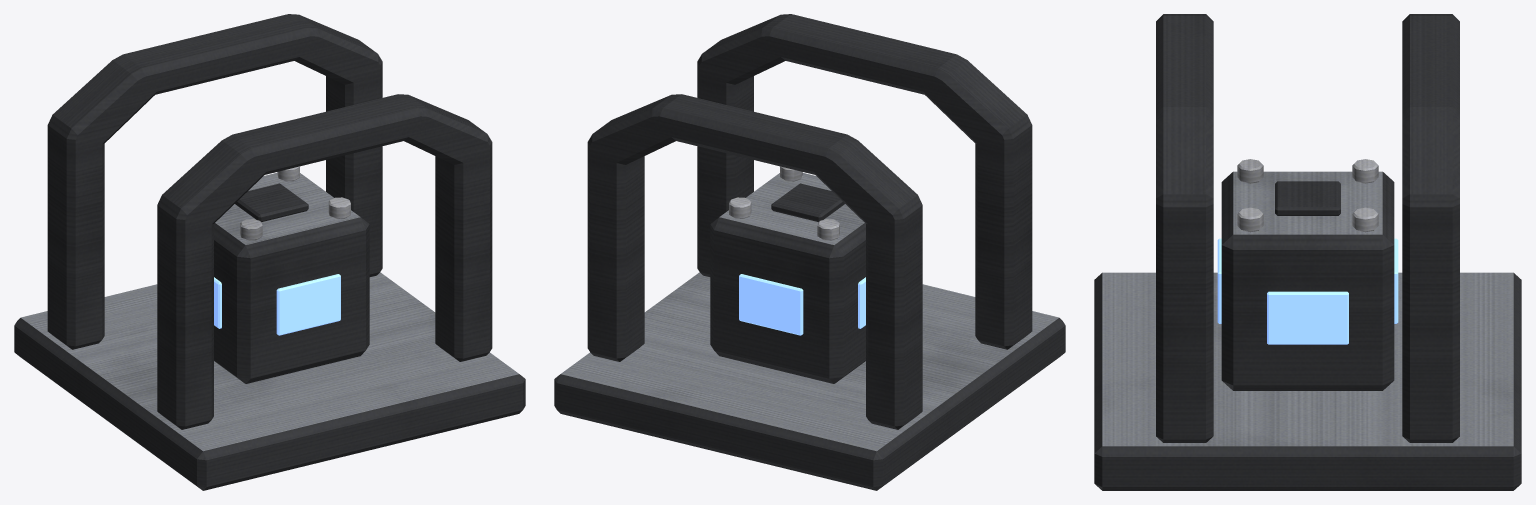
File: R4X_ModuleDurabilityBooster_LOD1.glb
The picture shows the model from 3 angles, left to right: view 1: azimuth 30°, elevation 25°; view 2: azimuth 150°, elevation 25°; view 3: azimuth 270°, elevation 25°; orthographic projection. The views are drawn at different scales.
Parts seen in each view (by area): view 1: R4X_ModuleDurabilityBooster_LOD1; view 2: R4X_ModuleDurabilityBooster_LOD1; view 3: R4X_ModuleDurabilityBooster_LOD1.
Boxes of the visible parts, <box> form: R4X_ModuleDurabilityBooster_LOD1: <box>14,14,525,490</box>; R4X_ModuleDurabilityBooster_LOD1: <box>554,14,1065,490</box>; R4X_ModuleDurabilityBooster_LOD1: <box>1094,14,1521,490</box>.
Bounding box in the file's own units: 0.52 × 0.46 × 0.52.
4 materials, 3 textured.
